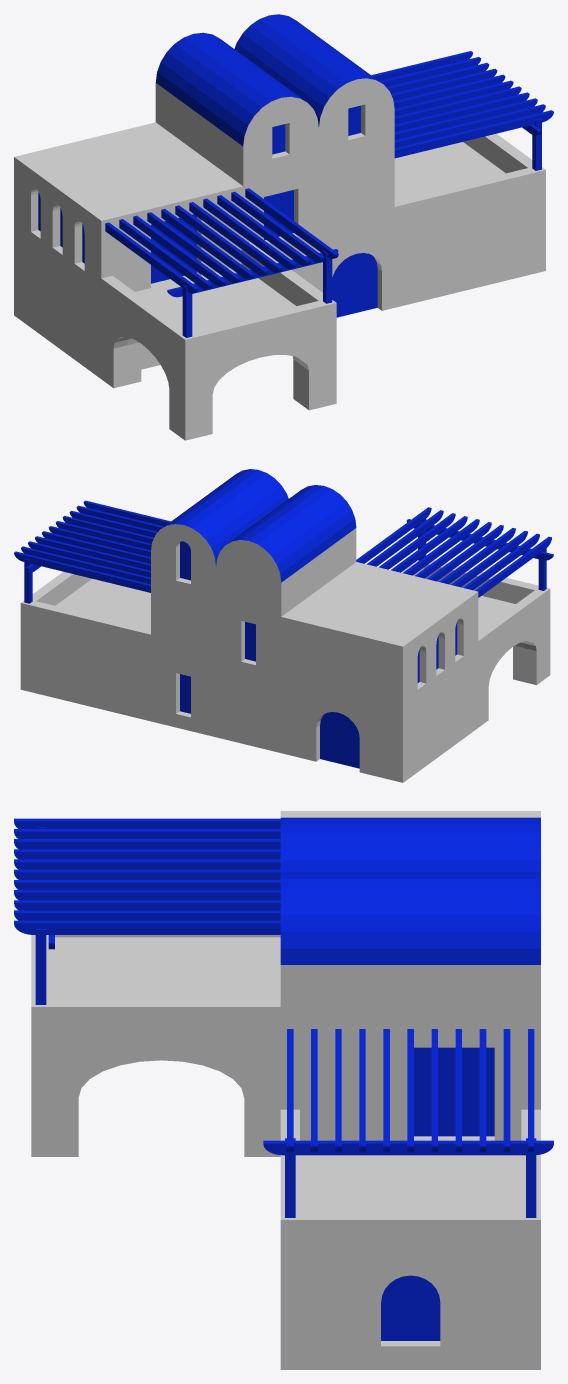
The model's file is SM_Module9_001.fbx.
3 renders of one model, top to bottom at view 1: azimuth 30°, elevation 25°; view 2: azimuth 150°, elevation 25°; view 3: azimuth 270°, elevation 25°, orthographic. The views are drawn at different scales.
Visible parts, largest first — view 1: 1DF3WS.002, 1WF.001, BigArches.010, 1WS.001, ARRAY.186, 1WF1WB.012, ARRAY.182, Terasse.007, 1WF1DS1WB.001, 1DB.001, Terasse.006, 1DF1WB.002 (+5 smaller); view 2: 1DF3WS.002, 1WF.001, 1DB.001, 1WS.001, 1WF1WB.012, 1WF1DS1WB.001, ARRAY.186, ARRAY.182, 1DF1WB.002, Terasse.006, BigArches.010, Terasse.007 (+4 smaller); view 3: 1WS.001, 1WF1WB.012, ARRAY.186, BigArches.010, 1WF1DS1WB.001, 1WF.001, Terasse.006, Terasse.007, ARRAY.182, Door.070, ARRAY.181, Window1.016 (+4 smaller).
Part boxes in pixels (left/top/right/bottom): 1DF3WS.002: left=14, top=122, right=252, bottom=299; 1WF.001: left=155, top=32, right=318, bottom=186; BigArches.010: left=97, top=268, right=336, bottom=440; 1WS.001: left=394, top=142, right=545, bottom=307; ARRAY.186: left=105, top=188, right=338, bottom=293; 1WF1WB.012: left=234, top=14, right=394, bottom=167; ARRAY.182: left=371, top=51, right=553, bottom=158; Terasse.007: left=97, top=242, right=336, bottom=361; 1WF1DS1WB.001: left=243, top=149, right=394, bottom=255; 1DB.001: left=14, top=236, right=160, bottom=376; Terasse.006: left=394, top=133, right=545, bottom=228; 1DF1WB.002: left=285, top=228, right=394, bottom=310; 1DF3WS.002: left=273, top=562, right=478, bottom=714; 1WF.001: left=216, top=485, right=356, bottom=616; 1DB.001: left=273, top=662, right=474, bottom=782; 1WS.001: left=20, top=578, right=150, bottom=721; 1WF1WB.012: left=151, top=469, right=288, bottom=600; 1WF1DS1WB.001: left=151, top=585, right=281, bottom=684; ARRAY.186: left=356, top=507, right=551, bottom=597; ARRAY.182: left=14, top=500, right=170, bottom=592; 1DF1WB.002: left=151, top=653, right=280, bottom=752; Terasse.006: left=20, top=571, right=150, bottom=653; BigArches.010: left=475, top=598, right=550, bottom=729; Terasse.007: left=401, top=560, right=550, bottom=660; 1WS.001: left=280, top=1155, right=540, bottom=1369; 1WF1WB.012: left=280, top=872, right=540, bottom=1023; ARRAY.186: left=14, top=818, right=280, bottom=934; BigArches.010: left=31, top=937, right=280, bottom=1156; 1WF1DS1WB.001: left=280, top=1024, right=540, bottom=1140; 1WF.001: left=280, top=817, right=540, bottom=872; Terasse.006: left=280, top=1109, right=540, bottom=1251; Terasse.007: left=31, top=935, right=280, bottom=1038; ARRAY.182: left=287, top=1029, right=534, bottom=1152; Door.070: left=414, top=1047, right=494, bottom=1136; ARRAY.181: left=263, top=1140, right=553, bottom=1155; Window1.016: left=381, top=1275, right=440, bottom=1340.
Bounding box in the file's own units: 1534 × 750 × 1037.
